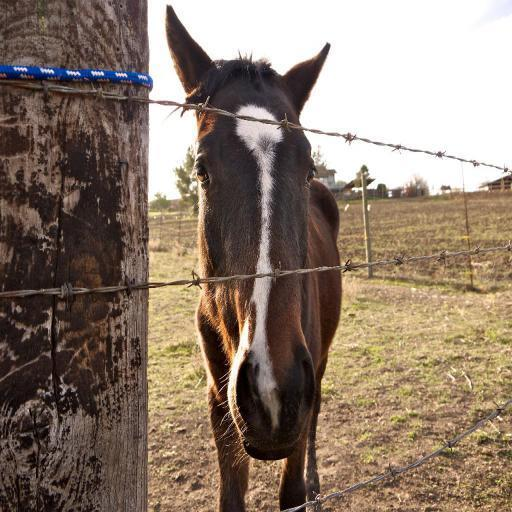horse: (164, 0, 344, 512)
